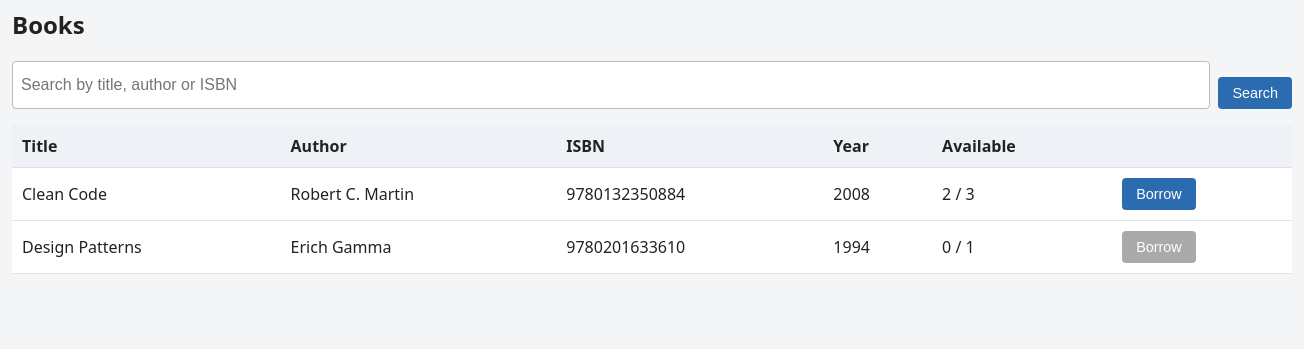
Test case: shows the error when borrowing fails
Click the button "Borrow" in the row of "Clean Code". click: (1159, 194)
box: x1=1122 y1=178 x2=1196 y2=210
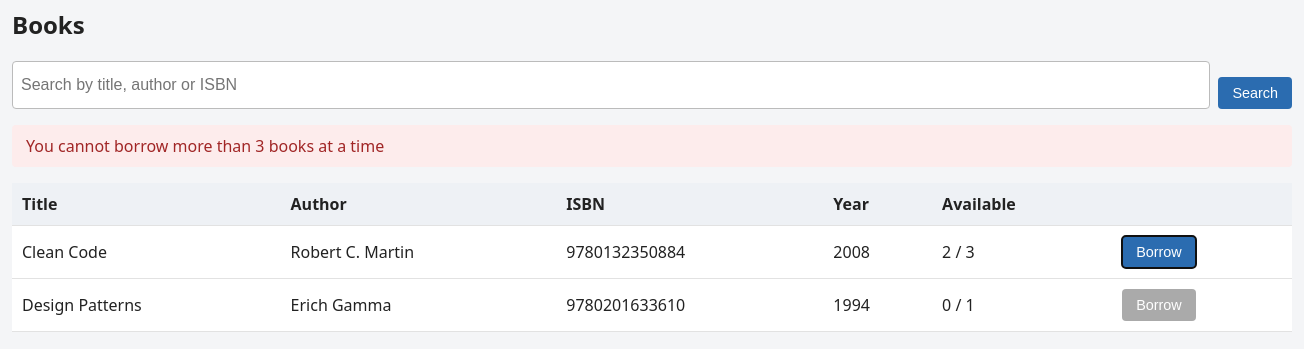
expect the message shows "more than 3 books": met, box x1=26 y1=135 x2=384 y2=157
